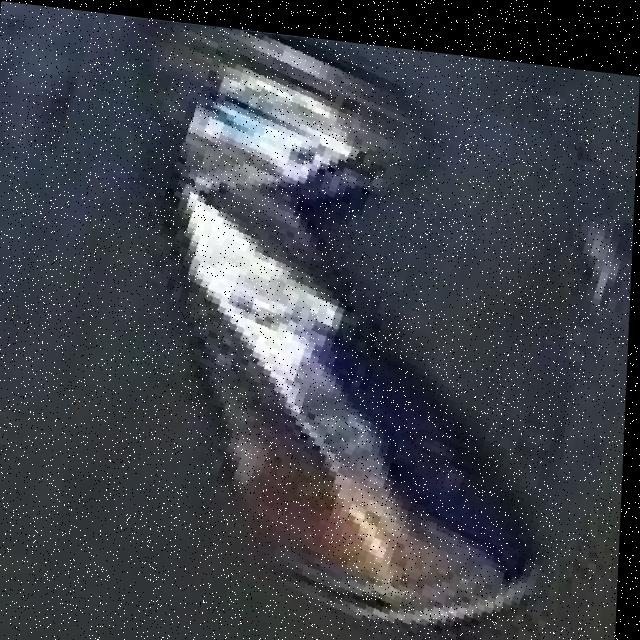litter: (84, 11, 566, 640)
